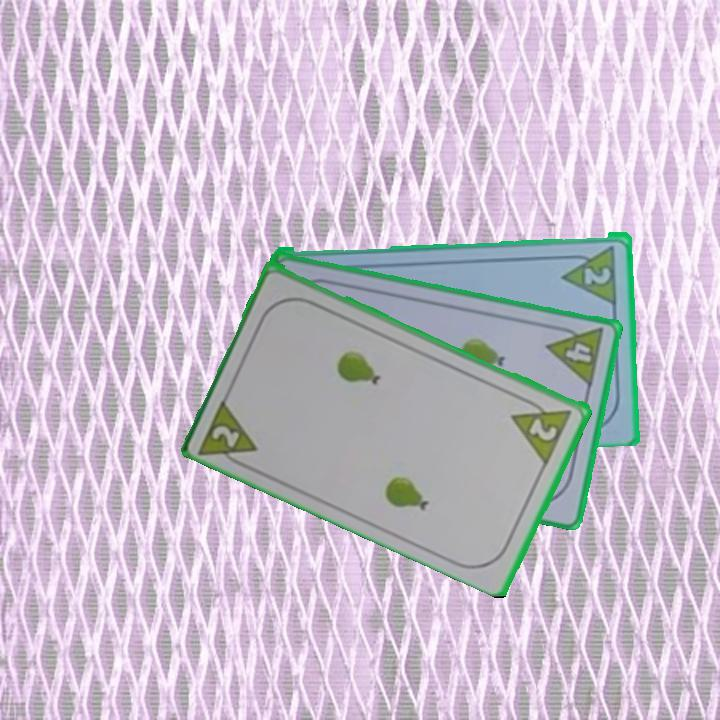2p: (196, 392, 262, 473), (508, 392, 576, 466), (581, 263, 614, 287)
4p: (543, 320, 607, 389)
